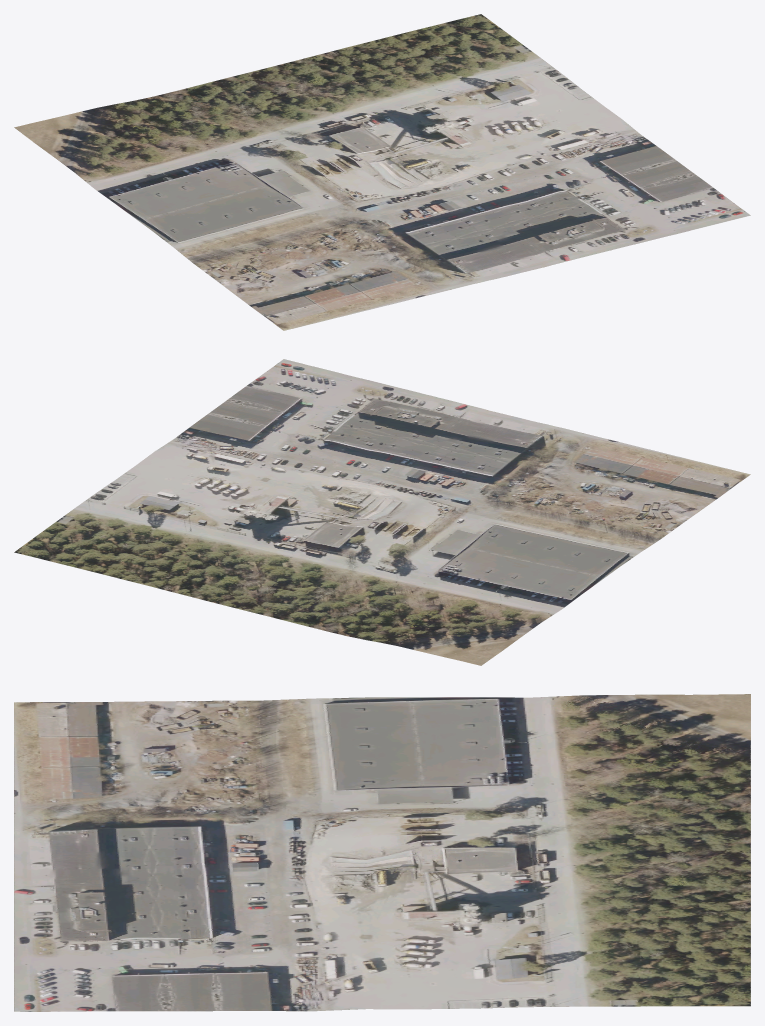
File: CM_Terrain_24488820_6818975.fbx
3 renders of one model, top to bottom at view 1: azimuth 30°, elevation 25°; view 2: azimuth 150°, elevation 25°; view 3: azimuth 270°, elevation 25°, orthographic. The views are drawn at different scales.
Visible parts, largest first — view 1: CM_Terrain_24488820_6818975_LOD0; view 2: CM_Terrain_24488820_6818975_LOD0; view 3: CM_Terrain_24488820_6818975_LOD0.
Part boxes in pixels (box(x1,y1,x2,y2)): CM_Terrain_24488820_6818975_LOD0: box(14, 14, 750, 330); CM_Terrain_24488820_6818975_LOD0: box(14, 359, 750, 665); CM_Terrain_24488820_6818975_LOD0: box(14, 694, 750, 1011).
Size of what is drawn, in the model's own units: 205 by 3.6 by 205.
